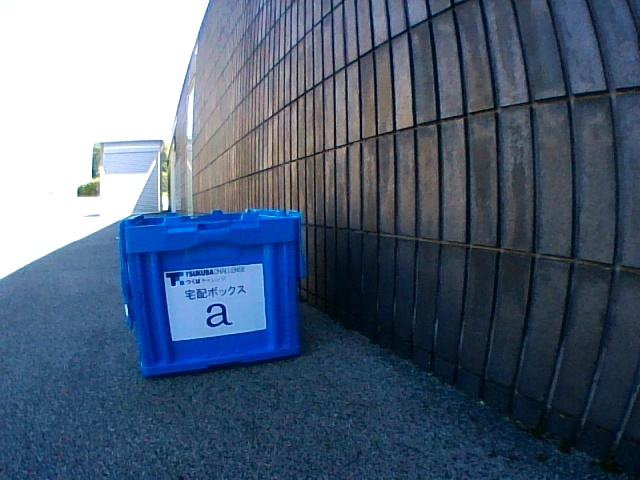blue_box: (119, 208, 304, 375)
tag_a: (181, 279, 250, 329)
